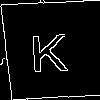K: (28, 25, 69, 73)
